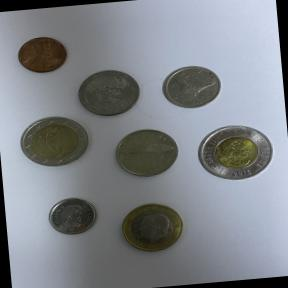coin: (190, 116, 284, 192), (104, 121, 188, 187), (110, 194, 194, 260), (12, 114, 92, 176), (74, 64, 150, 122), (10, 30, 80, 85), (42, 193, 105, 244)
